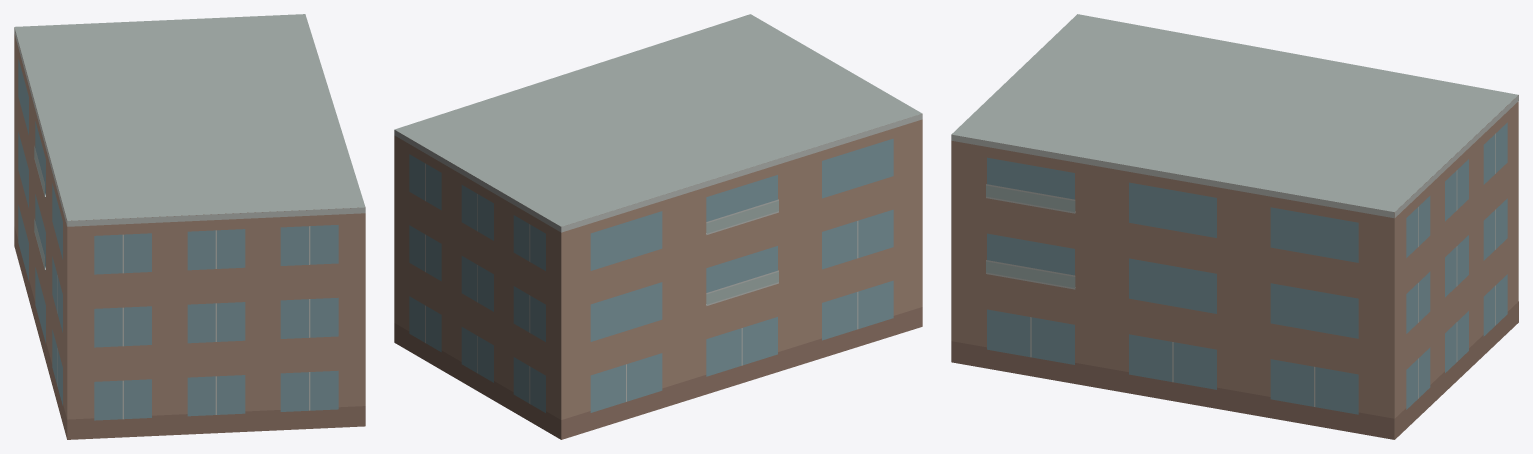
File: survey-upis-32533328.glb
3 renders of one model, left to right at view 1: azimuth 30°, elevation 25°; view 2: azimuth 150°, elevation 25°; view 3: azimuth 270°, elevation 25°, orthographic. The views are drawn at different scales.
Parts seen in each view (by area): view 1: survey-upis-32533328.tmp; view 2: survey-upis-32533328.tmp; view 3: survey-upis-32533328.tmp.
Boxes of the visible parts, left/top/right/bottom form: survey-upis-32533328.tmp: left=14, top=14, right=365, bottom=439; survey-upis-32533328.tmp: left=394, top=14, right=922, bottom=439; survey-upis-32533328.tmp: left=951, top=14, right=1518, bottom=439.
Size of the model in its own units: 17 by 9.1 by 20.56.
